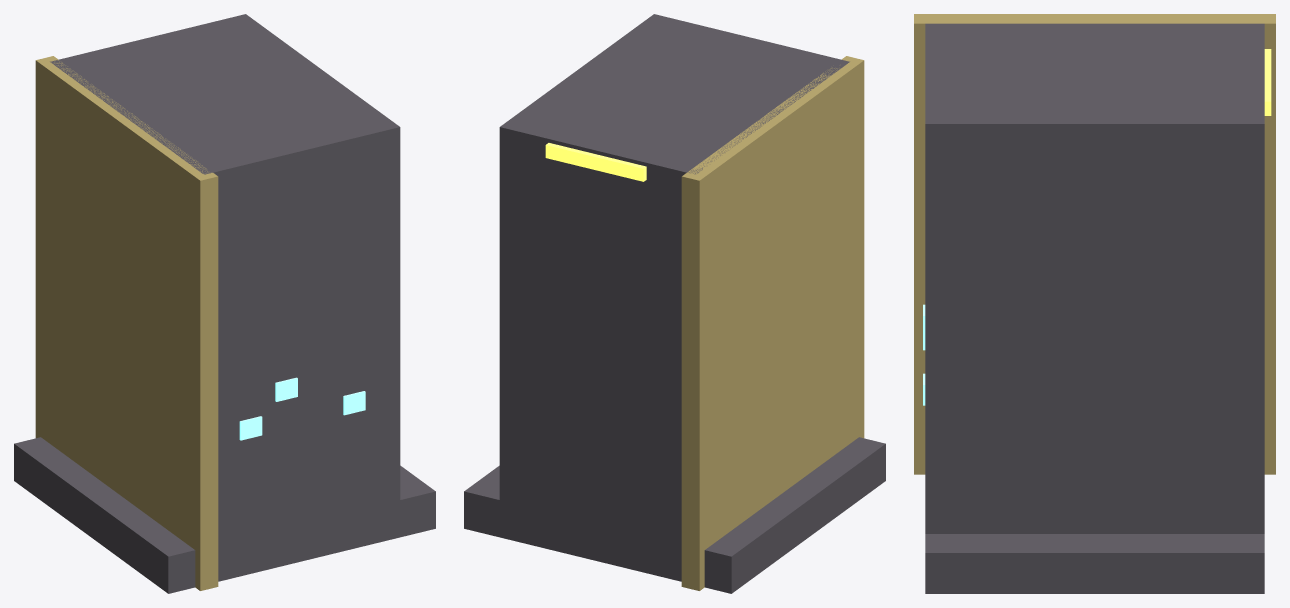
Rendered from finance_tower_lod1-CtmvB0M6.glb.
3 renders of one model, left to right at view 1: azimuth 30°, elevation 25°; view 2: azimuth 150°, elevation 25°; view 3: azimuth 270°, elevation 25°, orthographic. The views are drawn at different scales.
Visible parts, largest first — view 1: body, window; view 2: body, sign; view 3: body, sign.
Part boxes in pixels (box(x1,y1,x2,y2)): body: box(14, 14, 435, 593); window: box(239, 377, 365, 440); body: box(464, 14, 885, 593); sign: box(545, 143, 646, 181); body: box(914, 14, 1275, 593); sign: box(1264, 49, 1271, 115).
Size of the model in its own units: 0.6 by 0.88 by 0.64.
